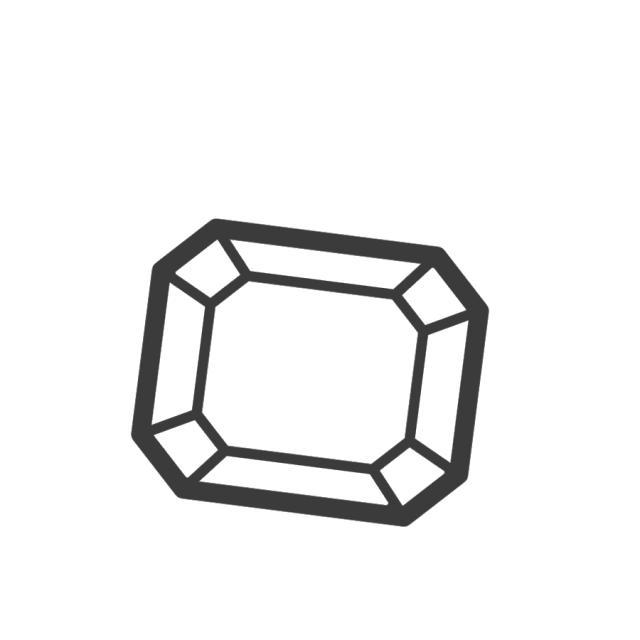emerald: (125, 213, 497, 536)
